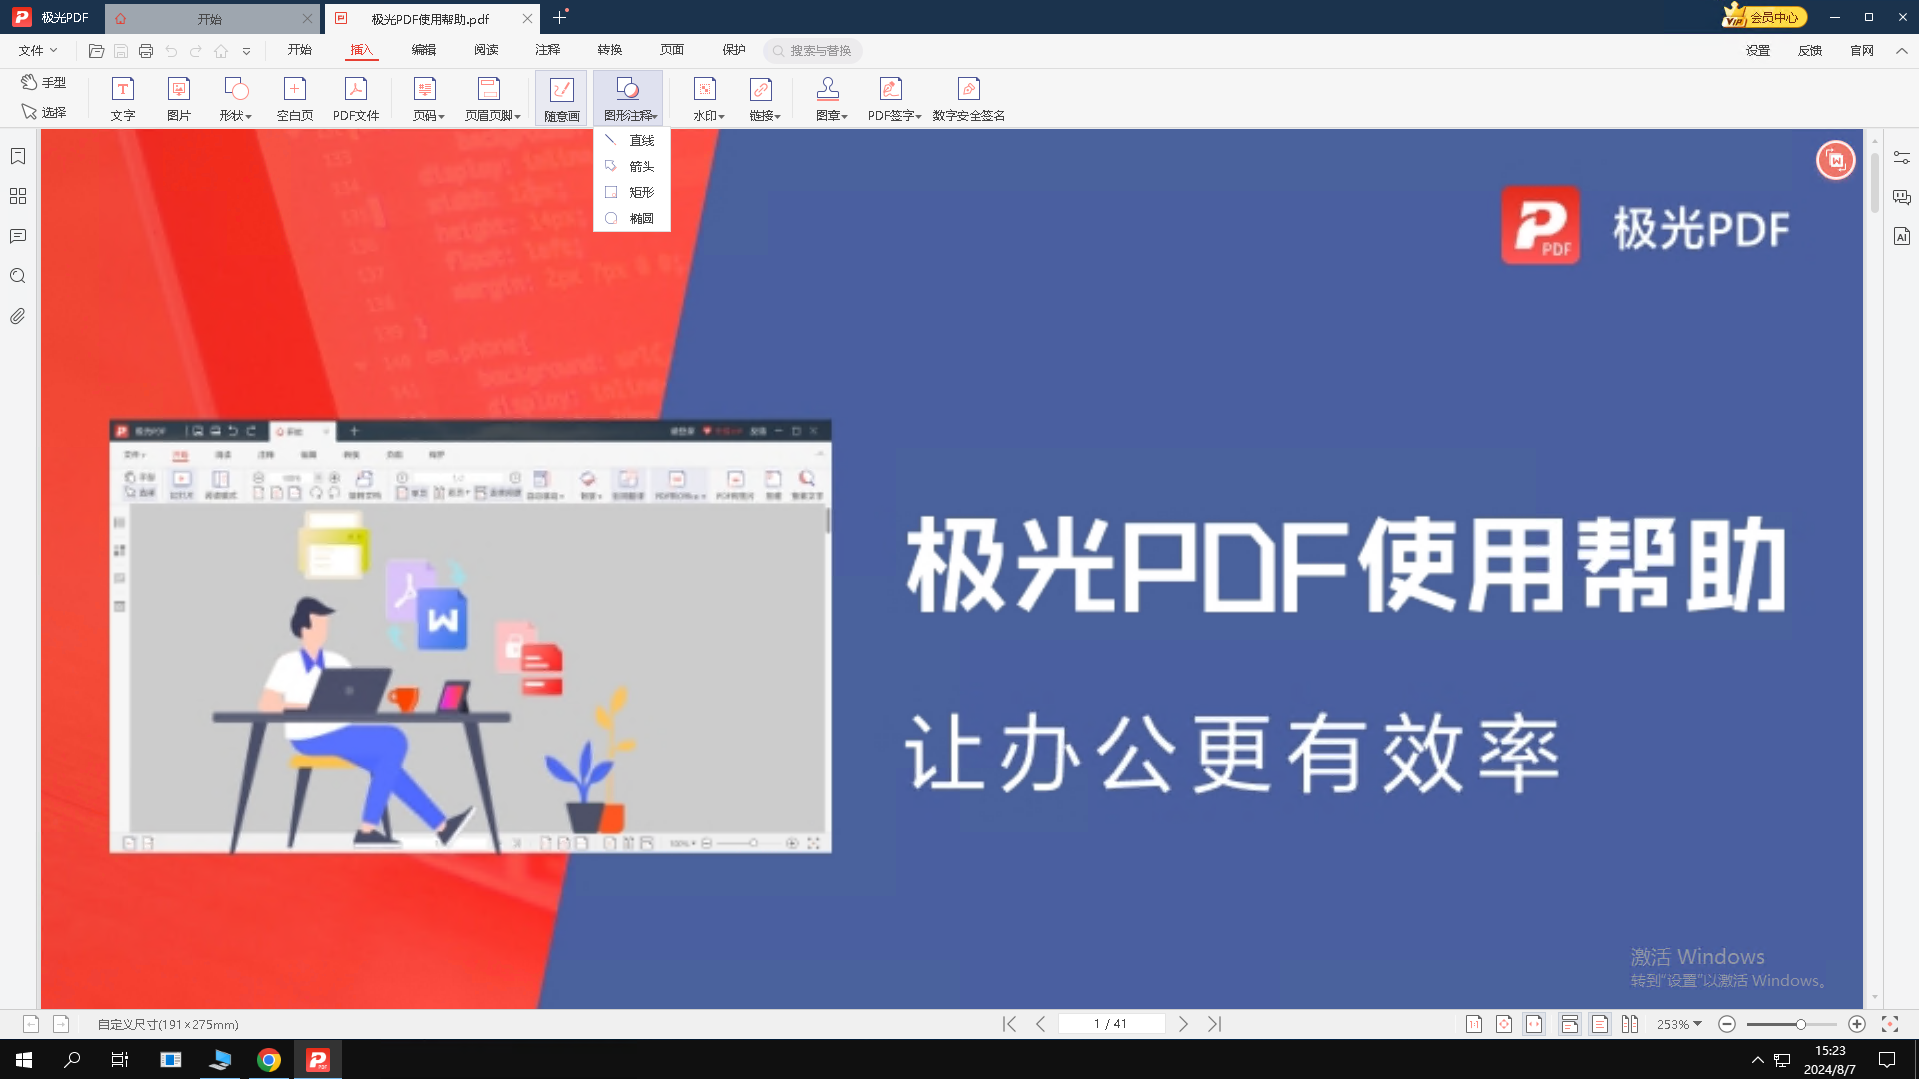Clickable: (597, 177, 625, 209), (596, 202, 623, 235), (592, 126, 622, 155), (596, 154, 623, 186)
Root: (594, 129, 671, 235)
